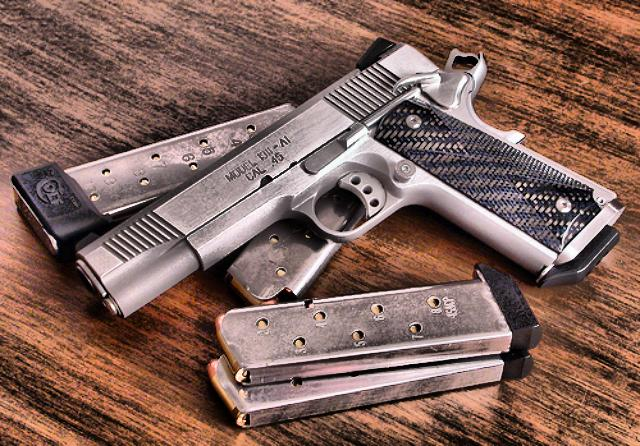pistol: (74, 30, 624, 324)
